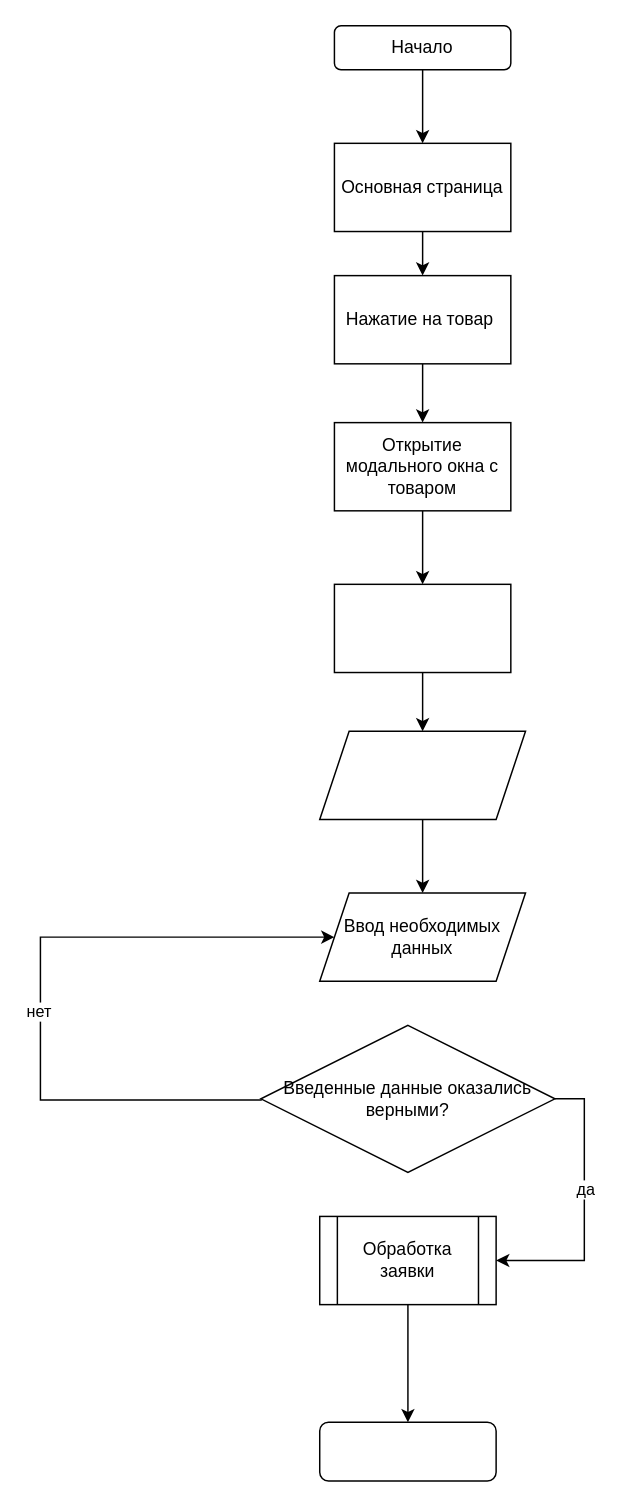
This 622x1507 diagram has some shape labels left out. Each missing label, with the centre of its shape:
"Вход в аккаунт" belongs at pixel 422 775.
"Конец" belongs at pixel 407 1451.
"Нажатие кнопки покупки" belongs at pixel 422 628.
